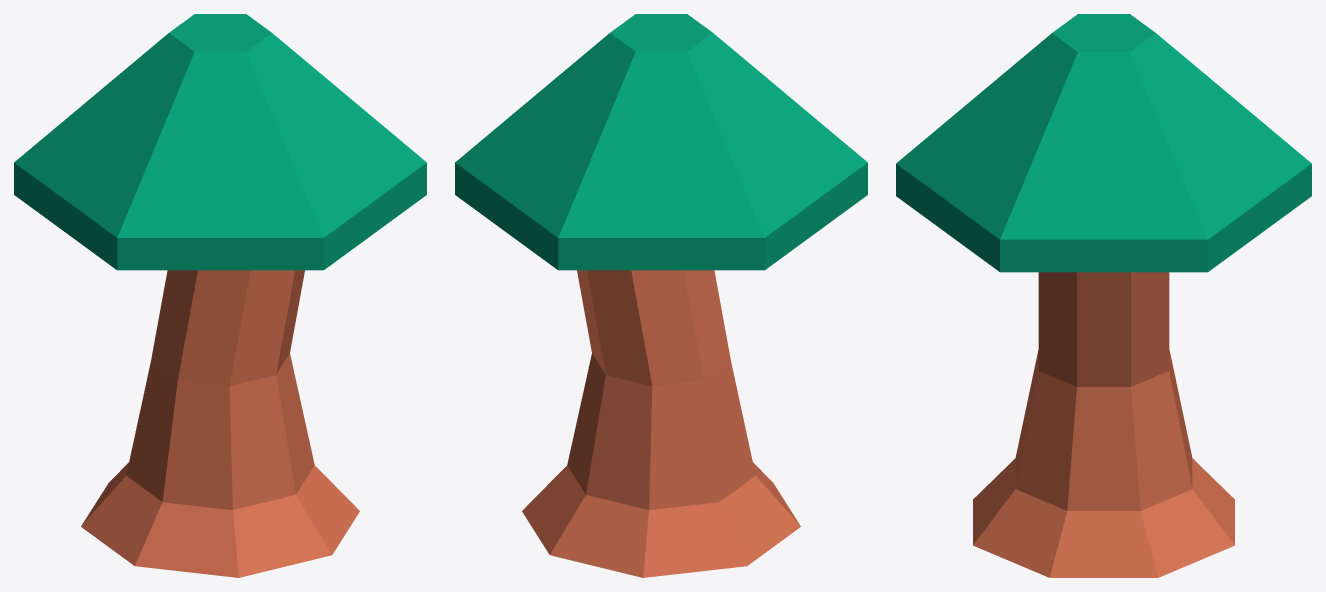
Rendered from Tree_4.fbx.
3 renders of one model, left to right at view 1: azimuth 30°, elevation 25°; view 2: azimuth 150°, elevation 25°; view 3: azimuth 270°, elevation 25°, orthographic.
Parts seen in each view (by area): view 1: mergedBlocks; view 2: mergedBlocks; view 3: mergedBlocks.
Boxes of the visible parts, left/top/right/bottom form: mergedBlocks: left=14, top=14, right=426, bottom=577; mergedBlocks: left=455, top=14, right=867, bottom=577; mergedBlocks: left=896, top=14, right=1311, bottom=577.
Size of the model in its own units: 10 by 15 by 11.55.
